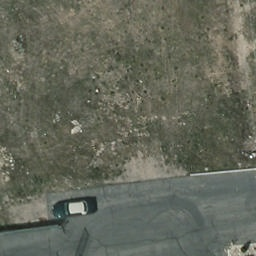car: (51, 200, 92, 218)
